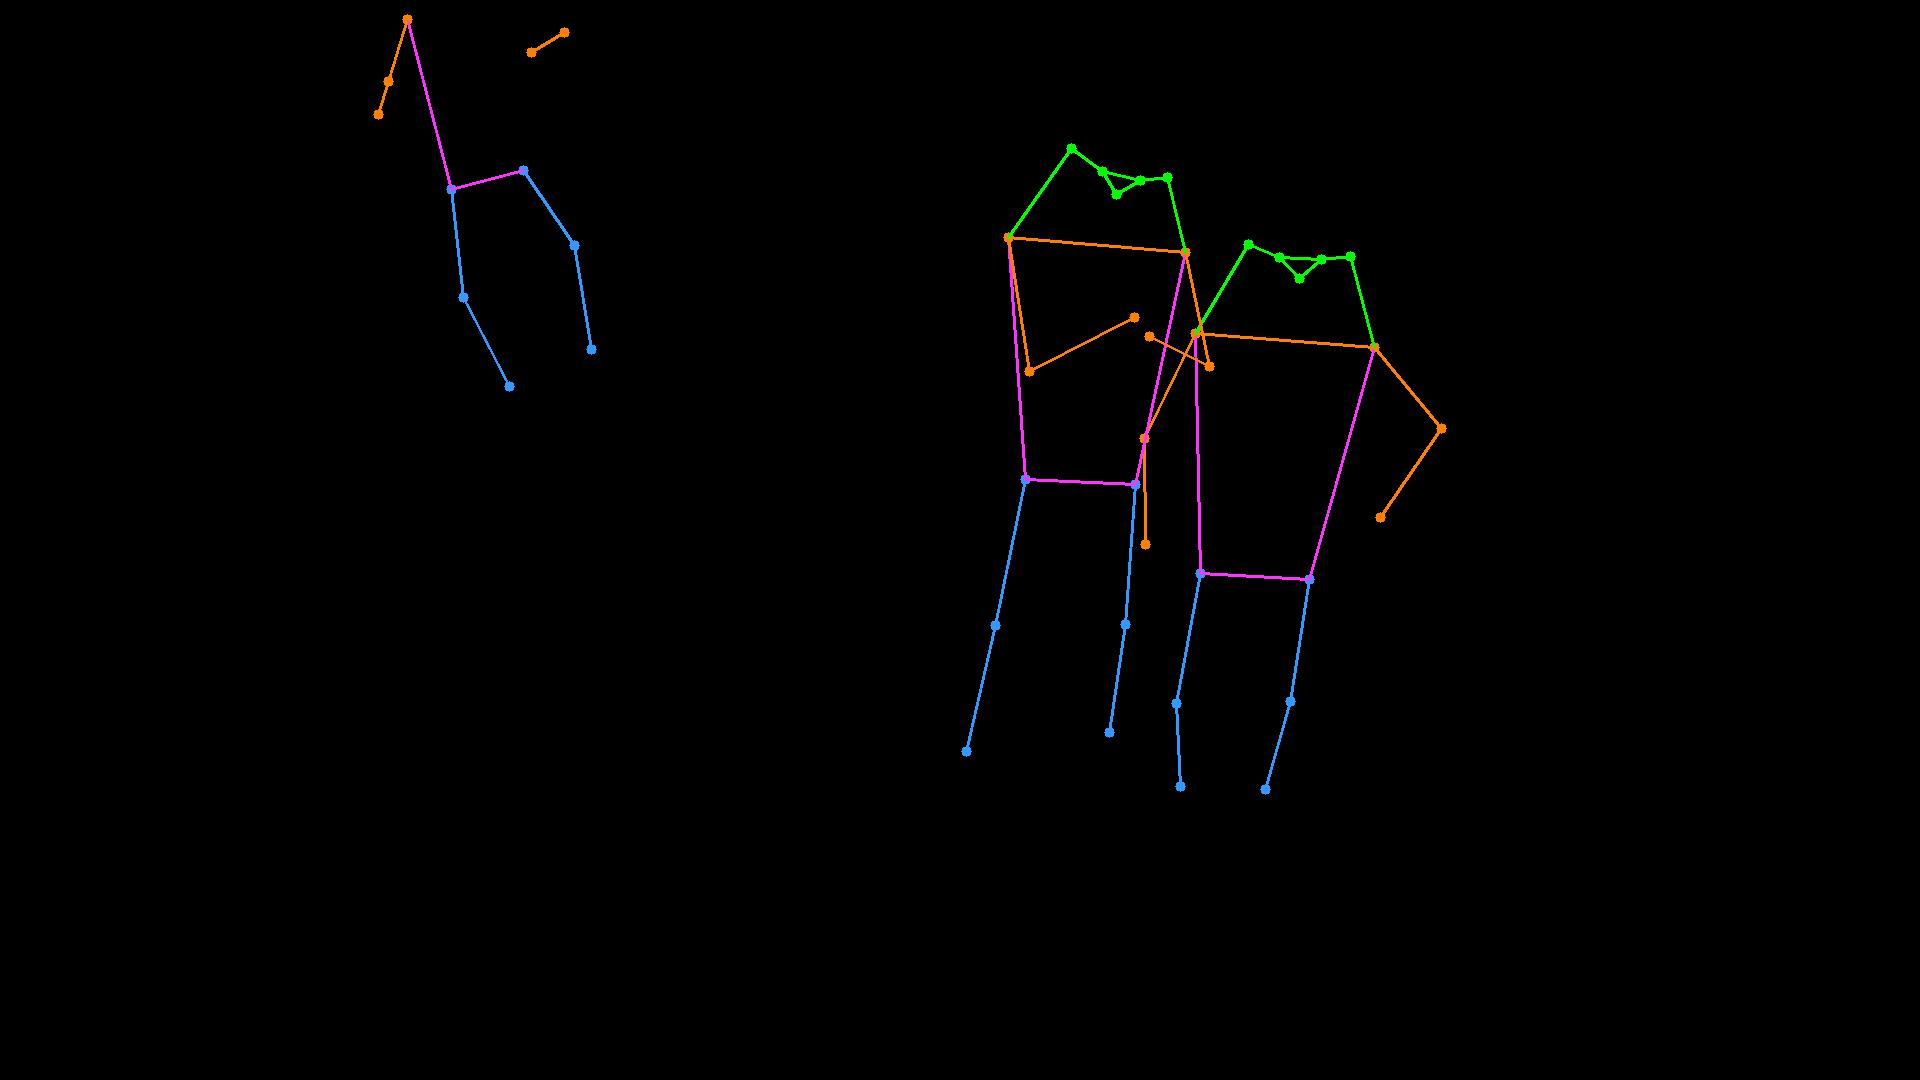normal: (926, 119, 1481, 862)
